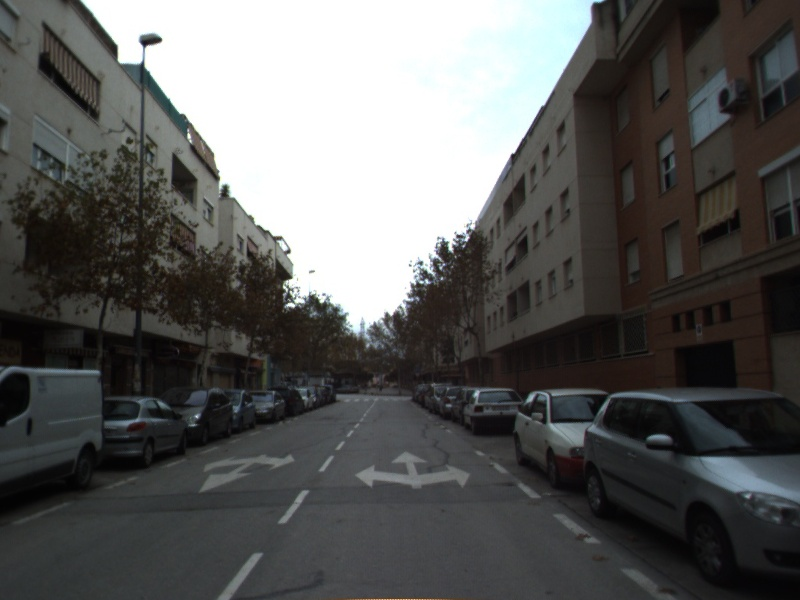STRAIGHT_LEFT_RIGHT: (353, 449, 473, 490)
